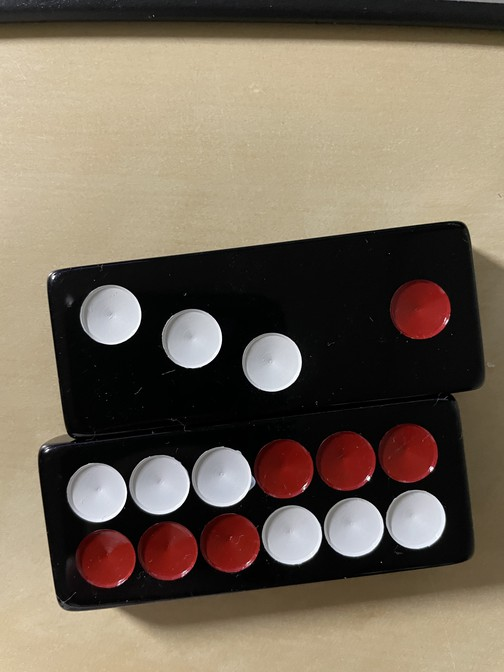goose: (48, 224, 499, 426)
heaven: (21, 399, 480, 608)
